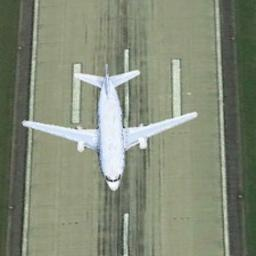Airplane: (21, 61, 198, 191)
